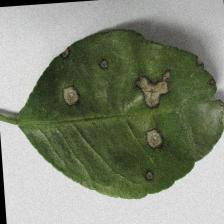canker: (51, 42, 217, 181)
